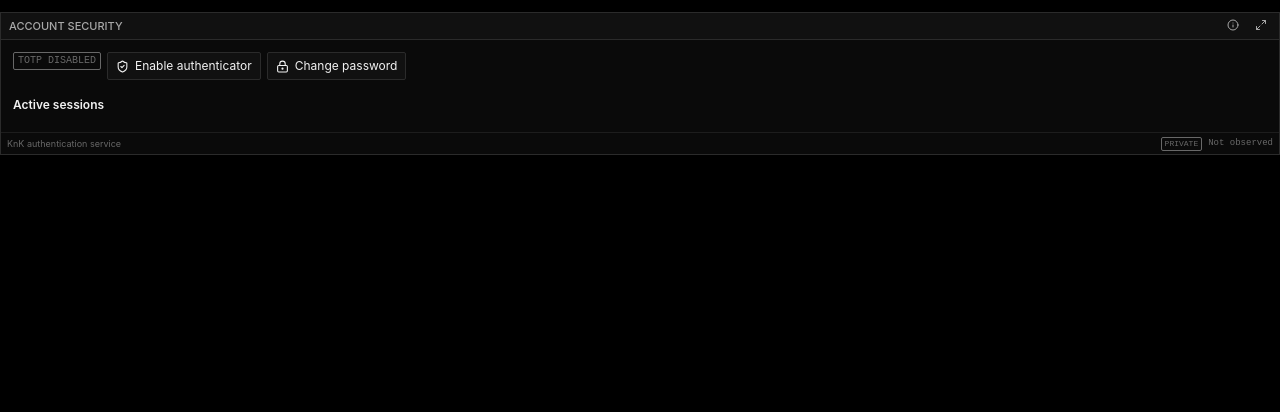
requires a confirmed enrollment before showing enabled state
The image size is (1280, 412).
Click the button "Enable authenticator" at (184, 66), box [107,52,261,80]
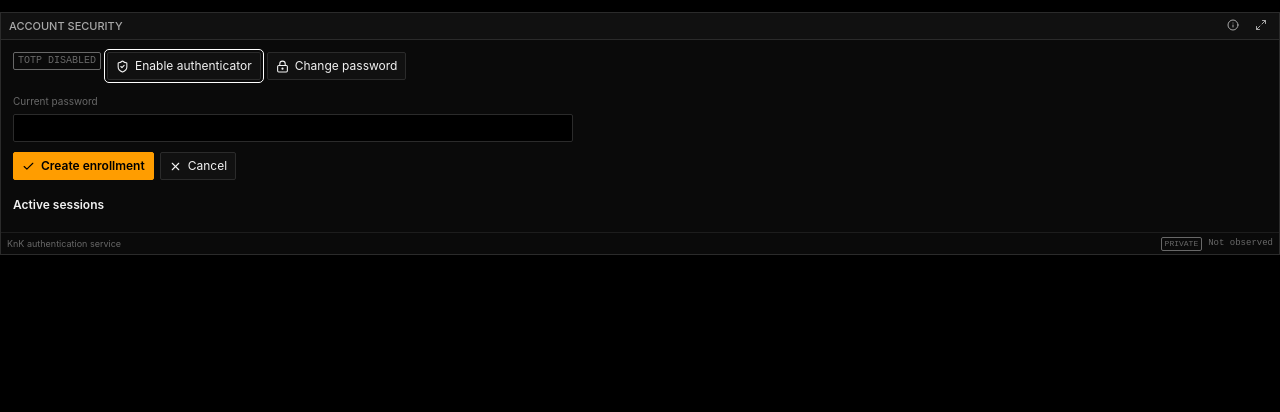
Type "synthetic-test-password" into the password field labelled "Current password" at (293, 128), box [13,114,573,142]
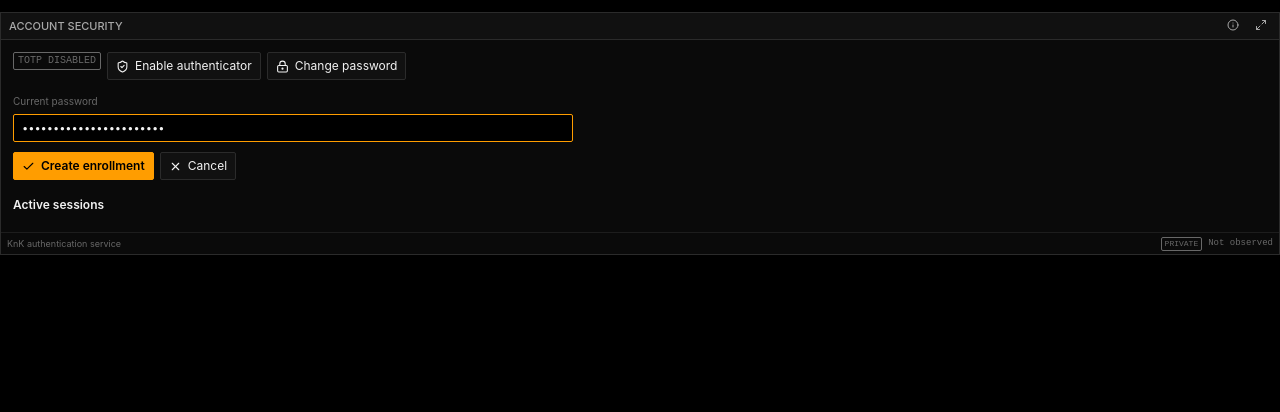
Click the button "Create enrollment" at (83, 166), box [13,152,154,180]
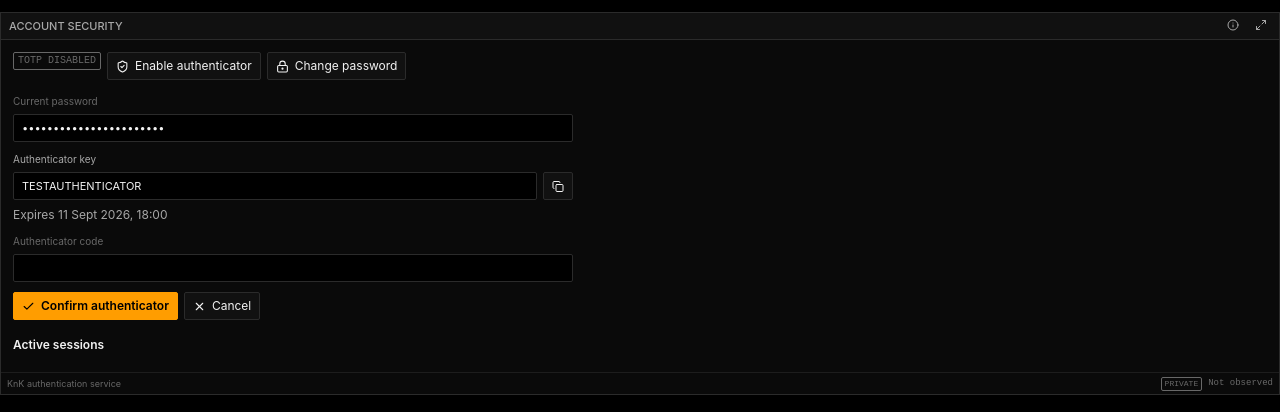
Now the field showing "TESTAUTHENTICATOR" is shown, box [13,172,537,200]
Type "123456" into the field labelled "Authenticator code" at (293, 268), box [13,254,573,282]
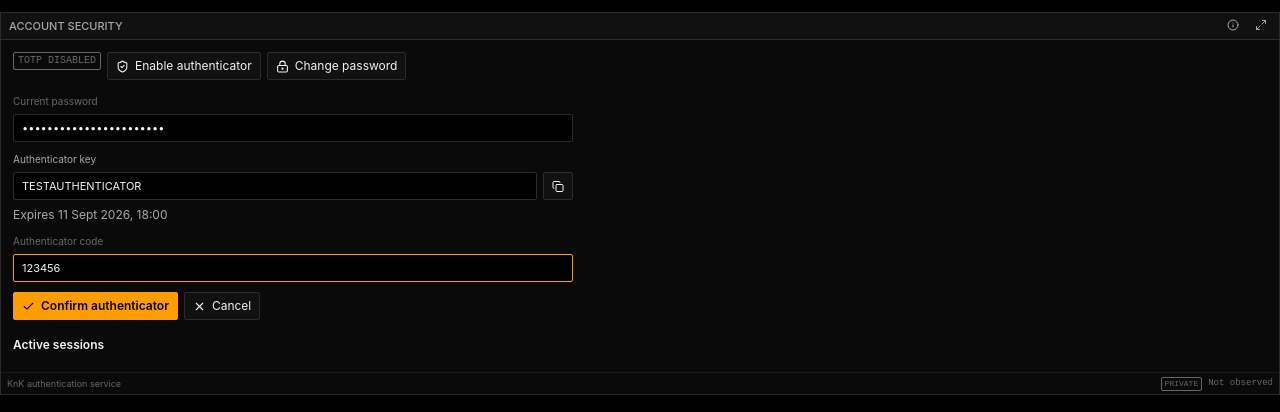
Click the button "Confirm authenticator" at (95, 306), box [13,292,178,320]
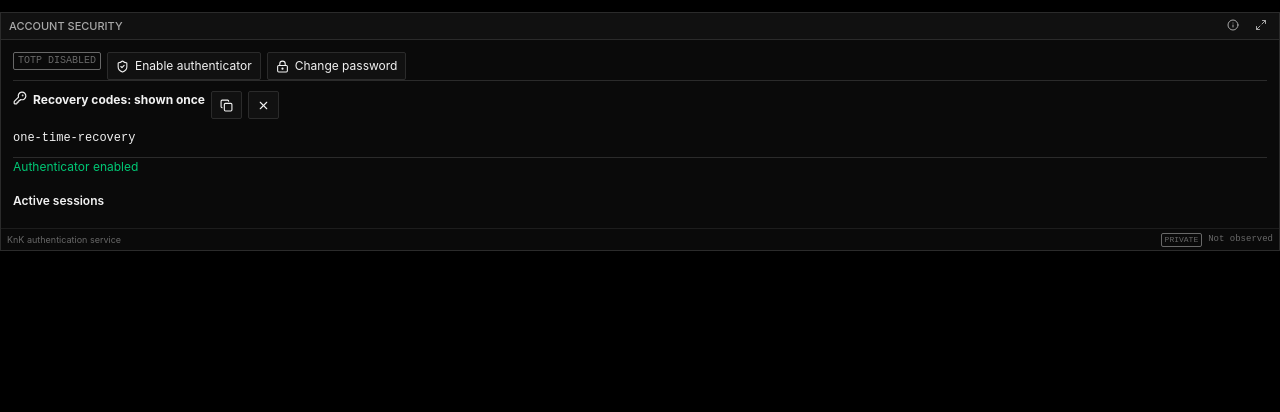
Now the text "one-time-recovery" is shown, box [13,131,135,145]
Click the button named "Dismiss recovery codes" at (264, 105), box [248,91,279,119]
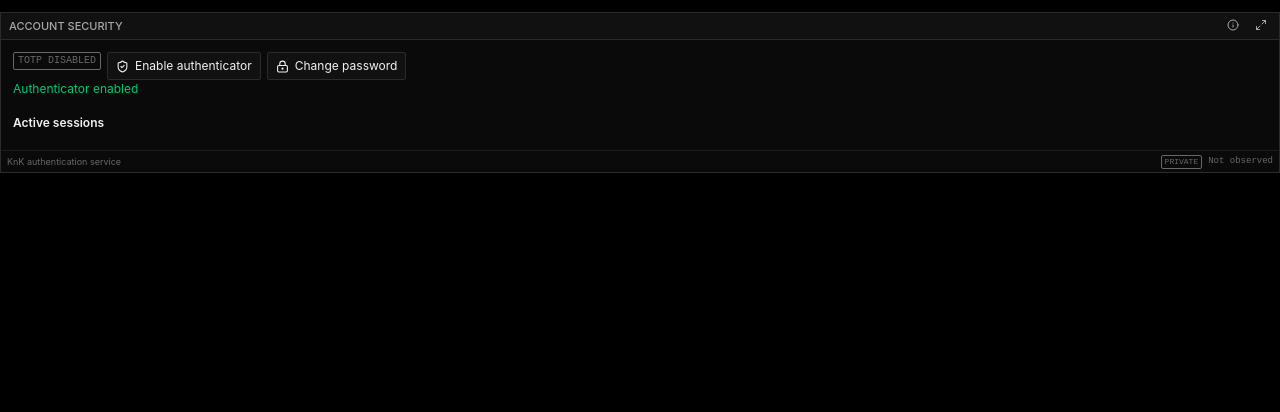
Expected: the field showing "TESTAUTHENTICATOR" is not shown
Now the text "one-time-recovery" is gone
